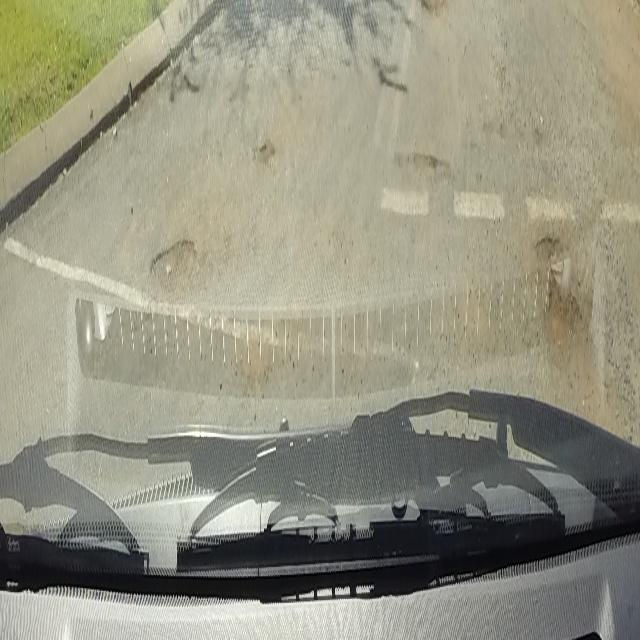pothole: (535, 231, 583, 361), (149, 228, 198, 314)
